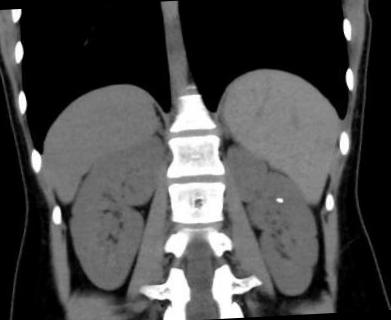Tas_Var: (274, 197, 282, 204)
